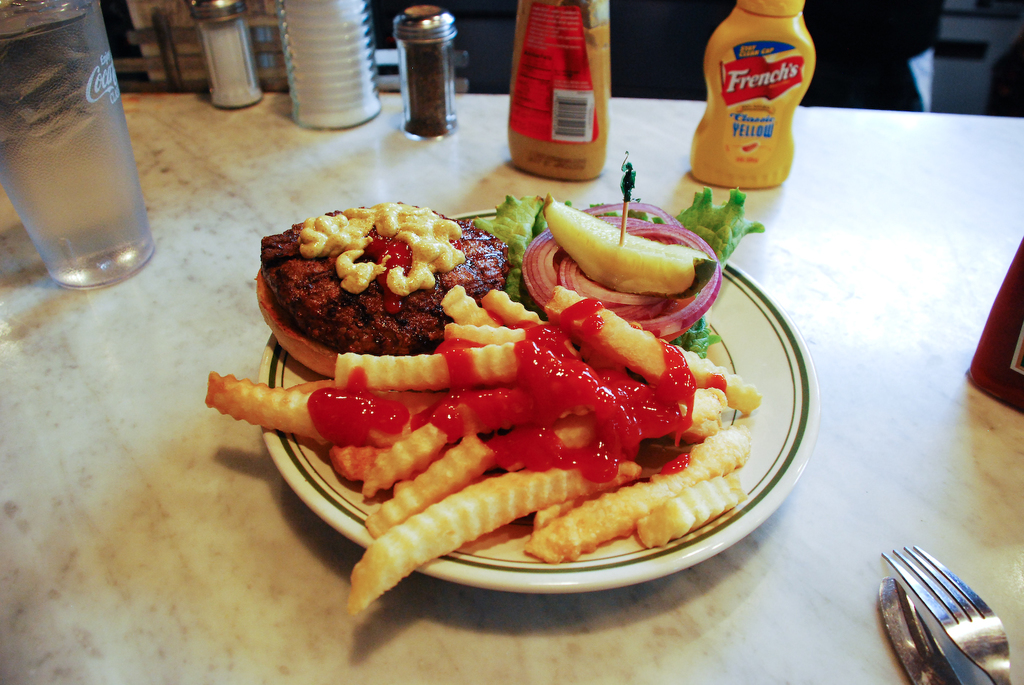French fries: (198, 287, 765, 625)
